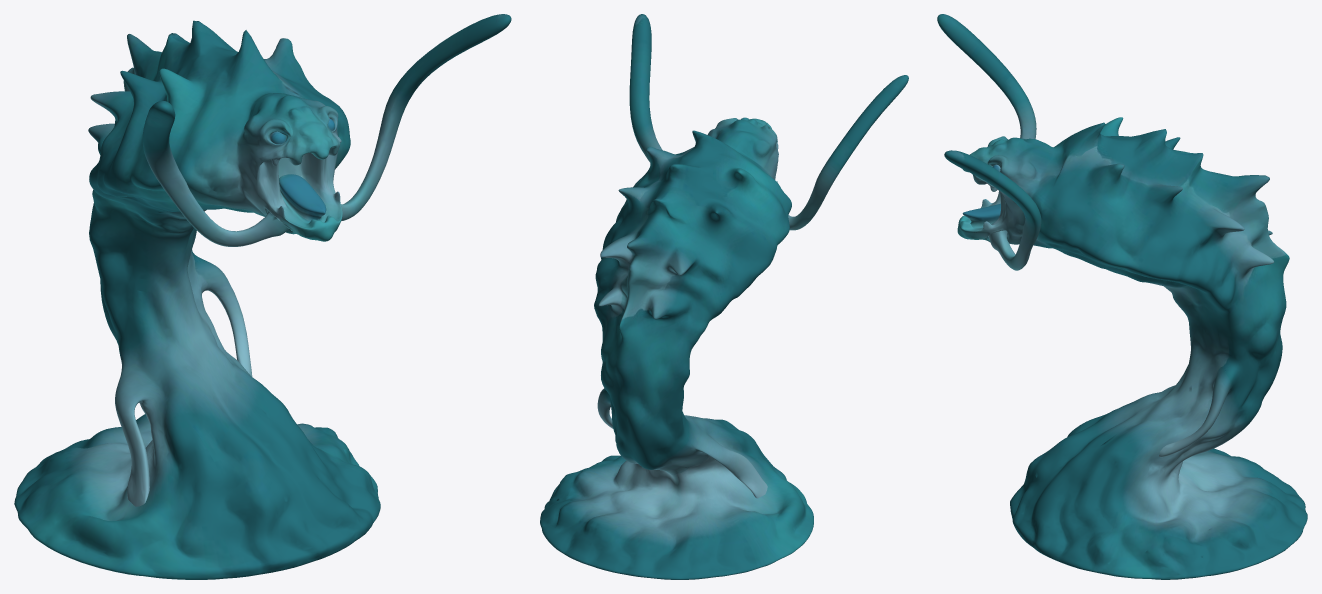
Rendered from MZ4250 - Water Weird.glb.
3 views of the same model, side by side, from view 1: azimuth 30°, elevation 25°; view 2: azimuth 150°, elevation 25°; view 3: azimuth 270°, elevation 25° (orthographic). The views are drawn at different scales.
Parts seen in each view (by area): view 1: default; view 2: default; view 3: default.
Boxes of the visible parts, <box> form: default: <box>14,14,511,579</box>; default: <box>540,14,908,579</box>; default: <box>937,14,1307,579</box>.
Size of the model in its own units: 0.8745 by 1.26 by 0.9712.
1 material, 1 textured.
